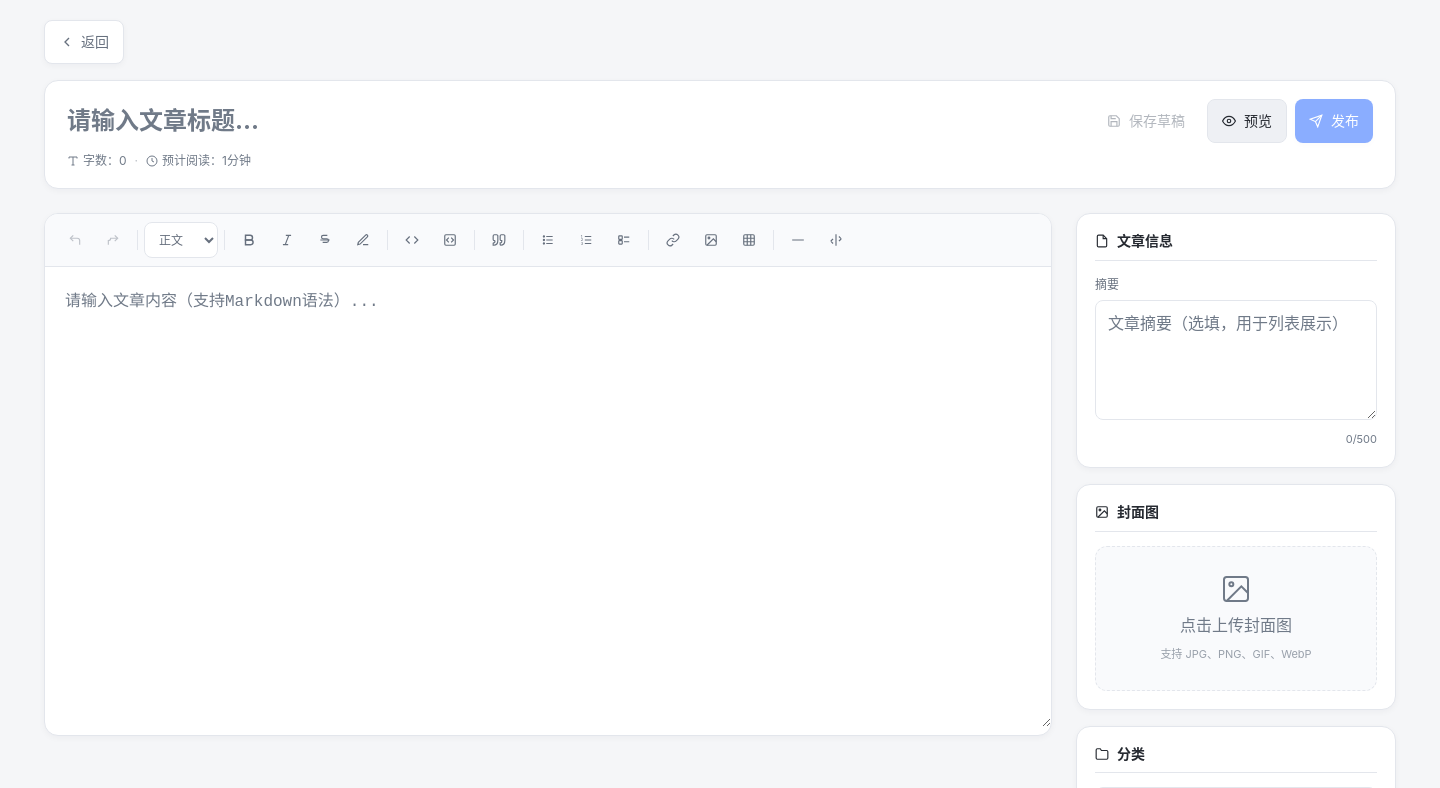
Test case: author editor smoke coverage › links the selection with a protocol placeholder instead of a bare url
Type "看看这个" into the text box with class "content-input".
click(548, 497); type("看看这个")  # box [45,267,1051,727]
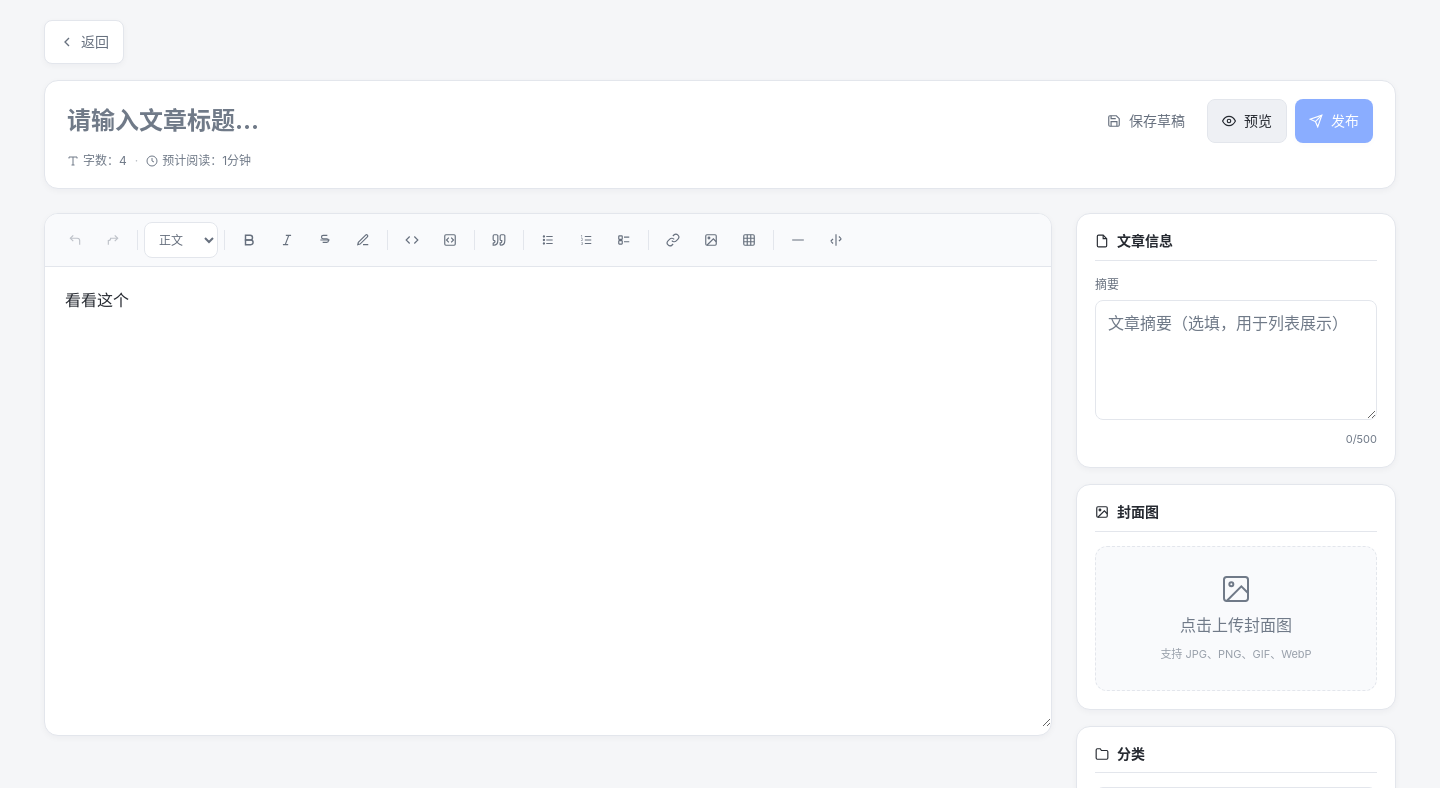
Click the button titled "链接".
click(673, 240)  # box [655,222,691,258]
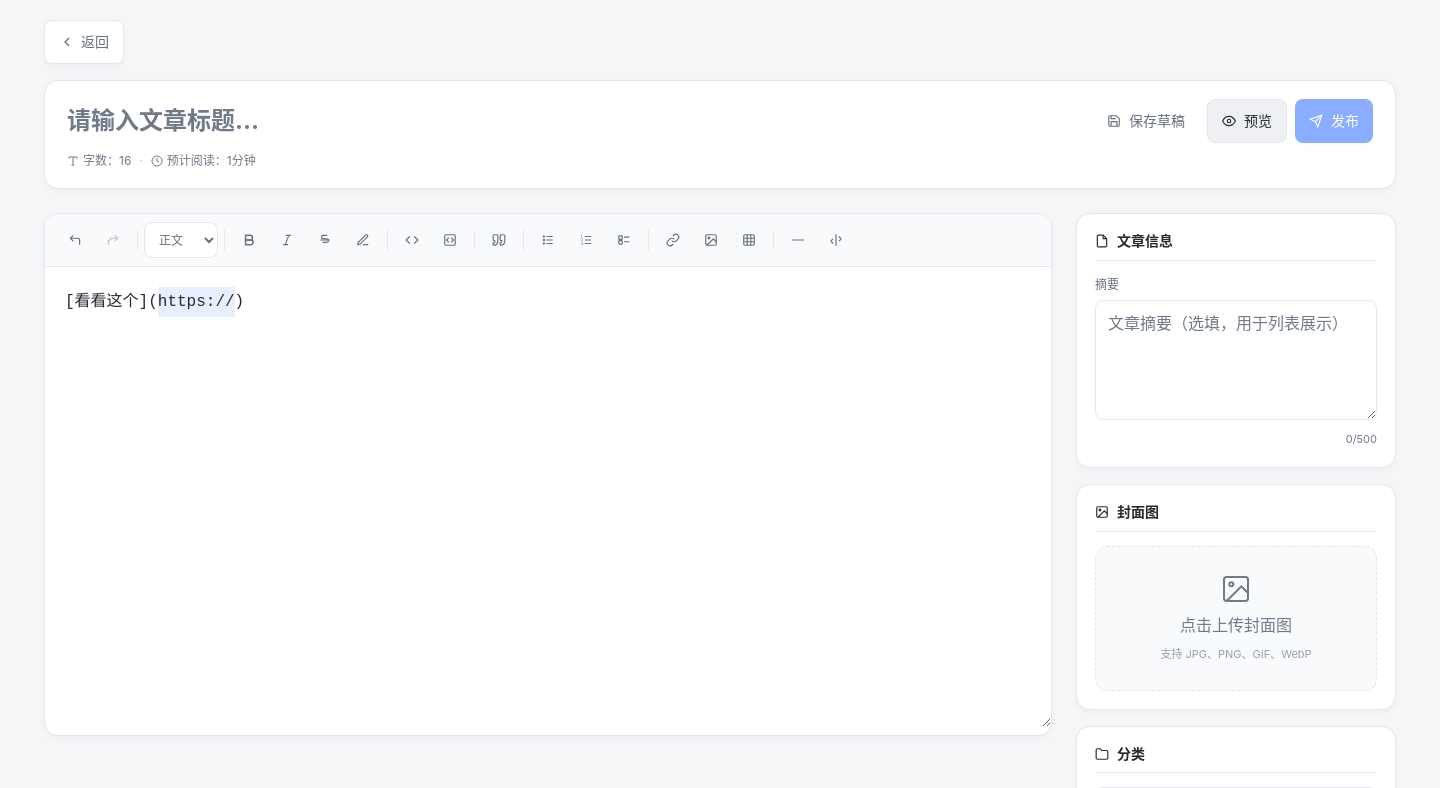
Now the text box with class "content-input" holds "[看看这个](https://)", box [45,267,1051,727]
